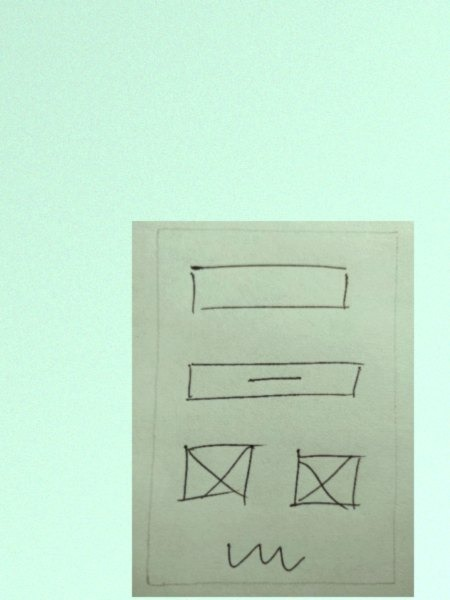button: (182, 356, 366, 405)
image: (177, 441, 265, 510), (287, 444, 366, 516)
text: (220, 533, 309, 577)
text_input: (185, 259, 357, 318)
